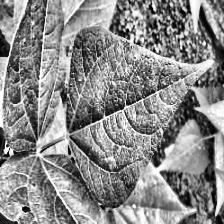Bean Rust: (73, 33, 198, 203)
